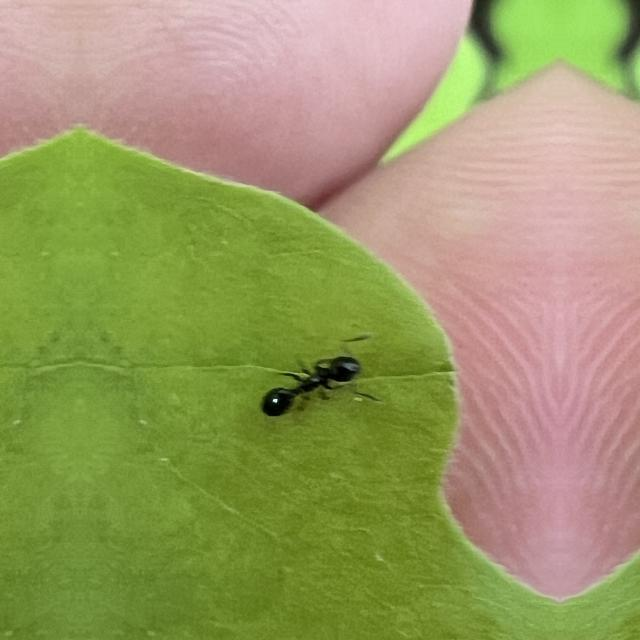Temnothorax: (240, 326, 374, 436)
